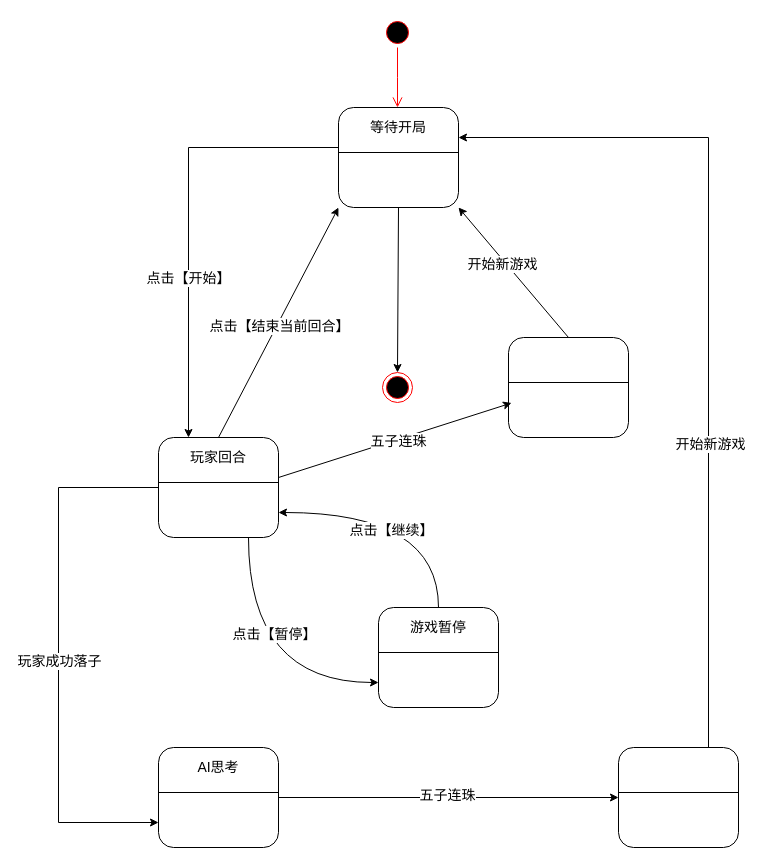
The diagram is 762 pixels wide and 865 high, and some of its shapes have lost their labels. Here are the shapes that lost their labels. From the top down, the centre of each, then its label:
At pixel 568 387: "玩家胜利".
At pixel 678 797: "AI胜利".
